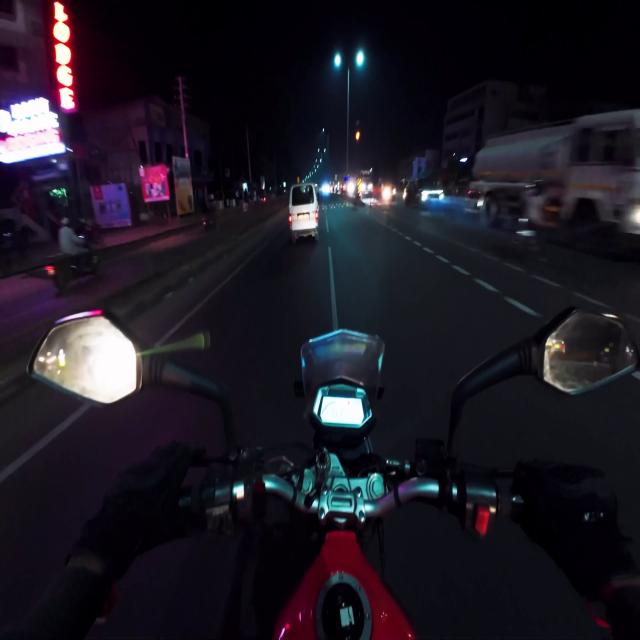car: (289, 183, 318, 243)
motorcycle: (29, 308, 639, 639), (45, 248, 99, 294)
